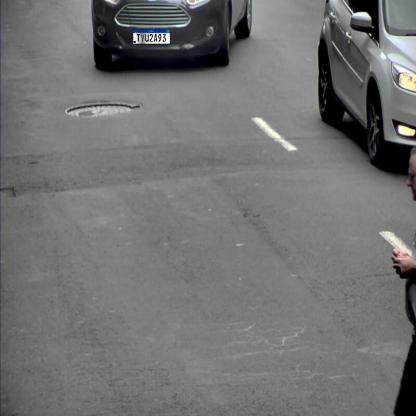PlacaM: (132, 28, 170, 44)
